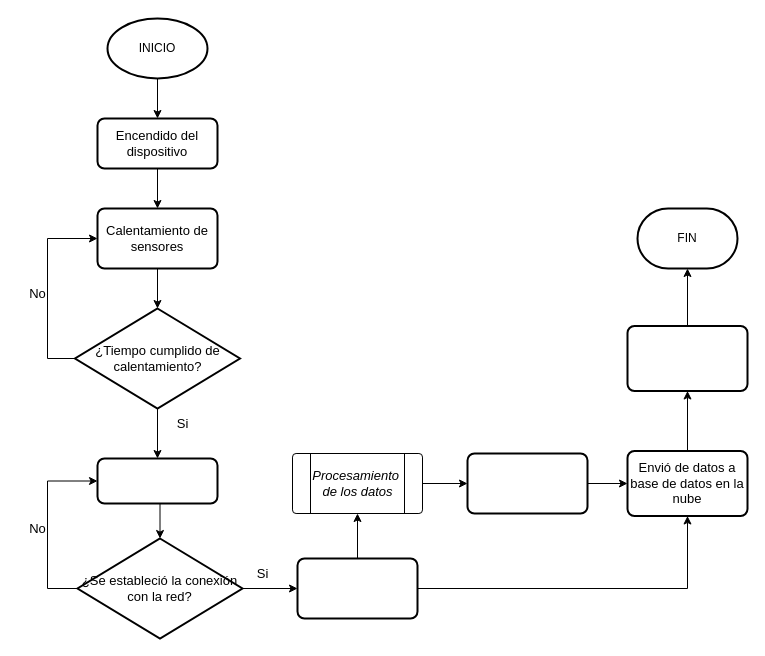
This 765x656 diagram has some shape labels left out. Here are the shapes that lost their labels. From the top down, the centre of each, then its label:
pixel 687 358: Visualización de los datos en interfaz web
pixel 157 480: Conexión a la red del sistema
pixel 527 483: Predicción y detección de niveles de contaminación
pixel 357 588: Recoleción de datos de los sensores y ubicación GPS
